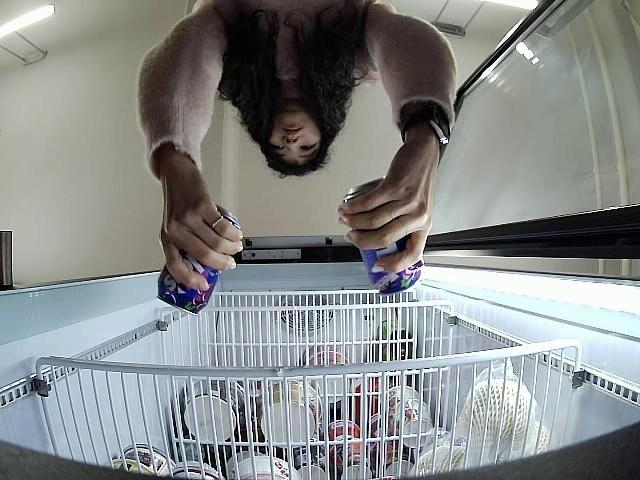14_welchsGrape: (154, 204, 240, 317), (340, 177, 423, 294)
